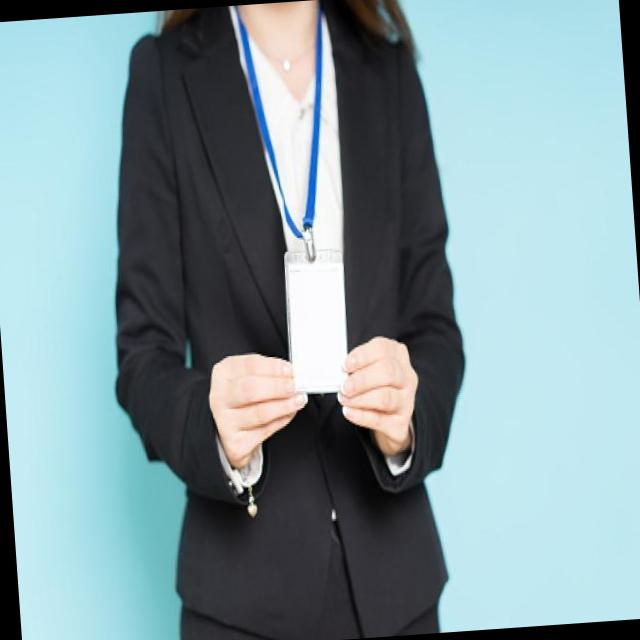id_card: (224, 0, 374, 395)
